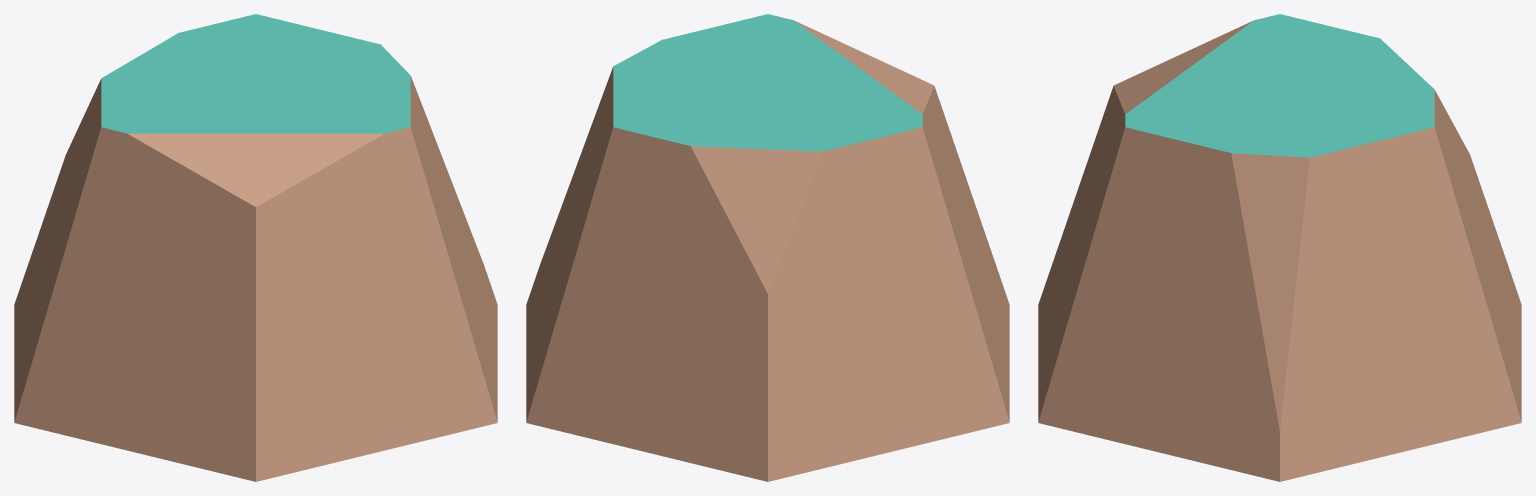
File: rock_smallD.glb
3 renders of one model, left to right at view 1: azimuth 30°, elevation 25°; view 2: azimuth 150°, elevation 25°; view 3: azimuth 270°, elevation 25°, orthographic.
Visible parts, largest first — view 1: rock_smallD; view 2: rock_smallD; view 3: rock_smallD.
Part boxes in pixels (box(x1,y1,x2,y2)): rock_smallD: box(14, 14, 497, 481); rock_smallD: box(526, 14, 1009, 481); rock_smallD: box(1038, 14, 1521, 481).
Bounding box in the file's own units: 0.4257 × 0.2309 × 0.3687.
